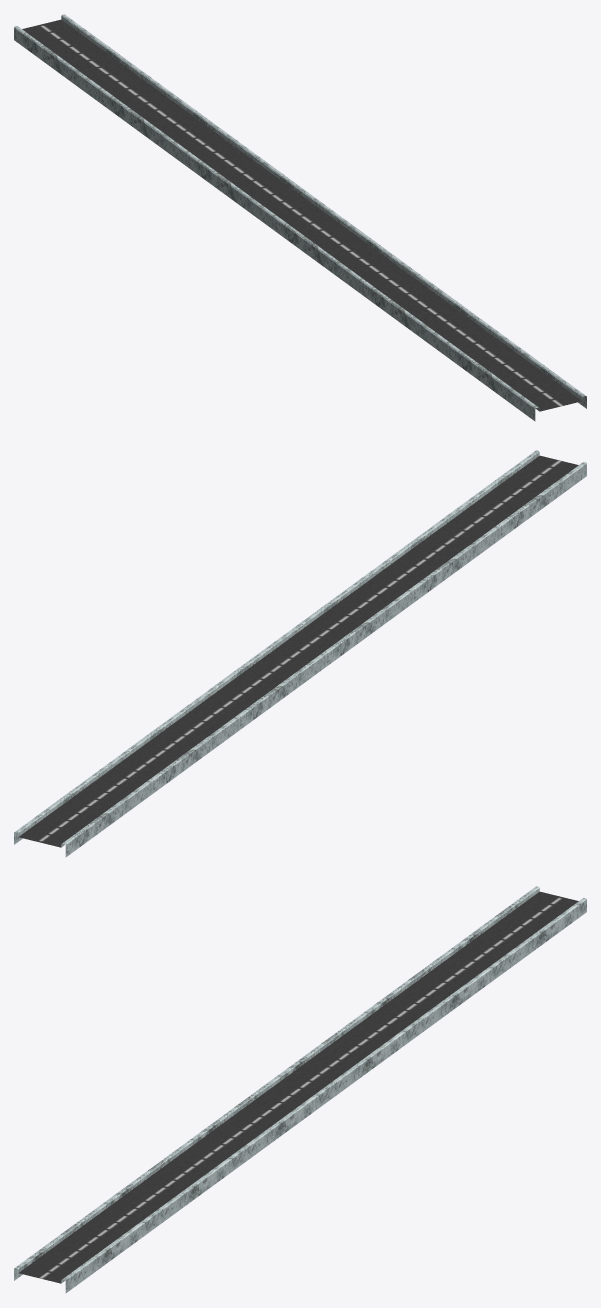
The model's file is Ruta.glb.
The picture shows the model from 3 angles, top to bottom: view 1: azimuth 30°, elevation 25°; view 2: azimuth 150°, elevation 25°; view 3: azimuth 330°, elevation 25°; orthographic projection.
Visible parts, largest first — view 1: Plane; view 2: Plane; view 3: Plane.
Boxes of the visible parts, x1=… form: Plane: x1=14, y1=14, x2=586, y2=421; Plane: x1=14, y1=450, x2=586, y2=857; Plane: x1=14, y1=886, x2=586, y2=1293.
Size of the model in its own units: 12 by 3 by 210.
Materials: 1 (1 with a texture image).
